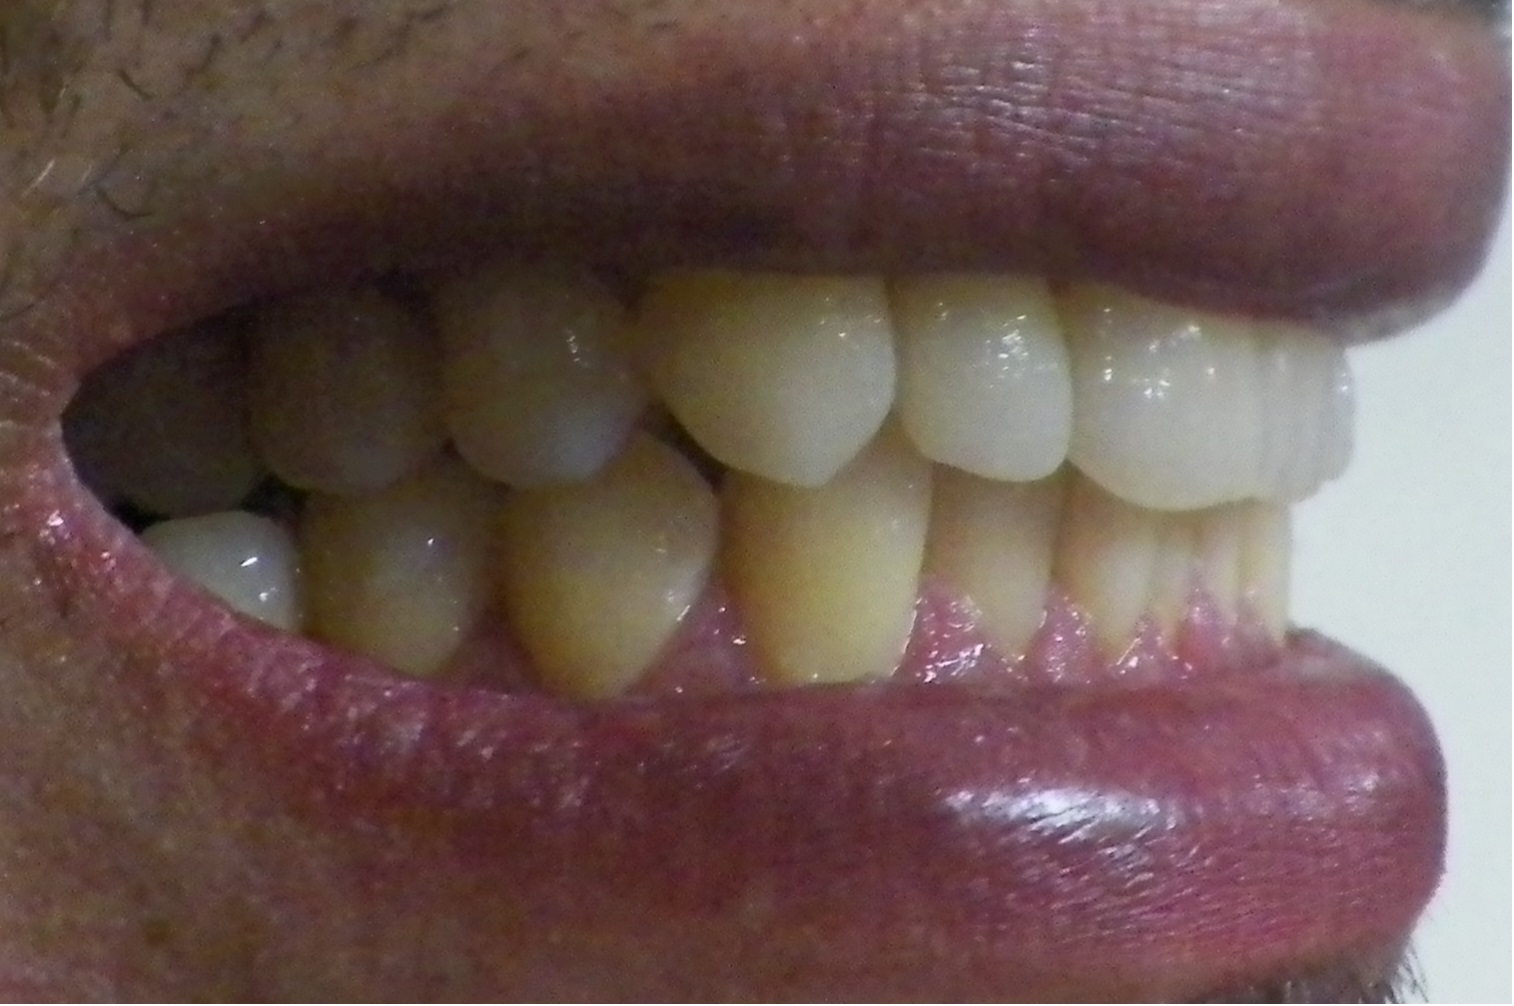boca: (77, 267, 1351, 669)
